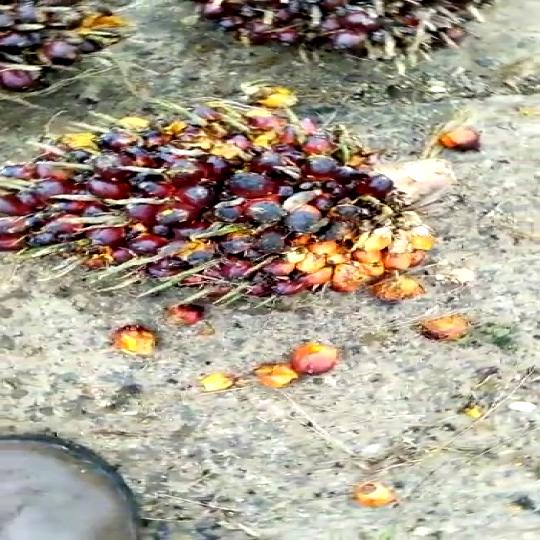masak: (0, 85, 478, 305)
